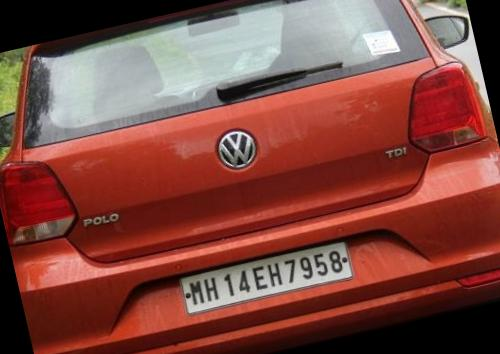plate: (160, 222, 368, 341)
